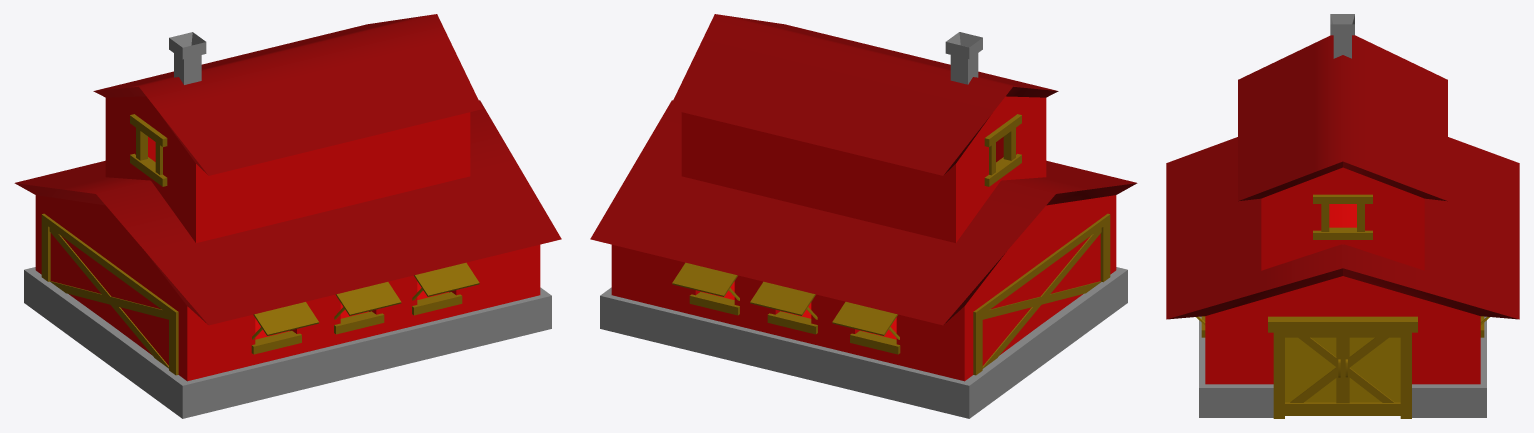
The model's file is house_6.fbx.
The picture shows the model from 3 angles, left to right: view 1: azimuth 30°, elevation 25°; view 2: azimuth 150°, elevation 25°; view 3: azimuth 270°, elevation 25°; orthographic projection. The views are drawn at different scales.
Parts seen in each view (by area): view 1: polySurface114; view 2: polySurface114; view 3: polySurface114.
Part boxes in pixels (x1=…): polySurface114: x1=14, y1=14, x2=561, y2=418; polySurface114: x1=590, y1=14, x2=1137, y2=418; polySurface114: x1=1166, y1=14, x2=1519, y2=418.
Bounding box in the file's own units: 111 × 83.23 × 97.56.
